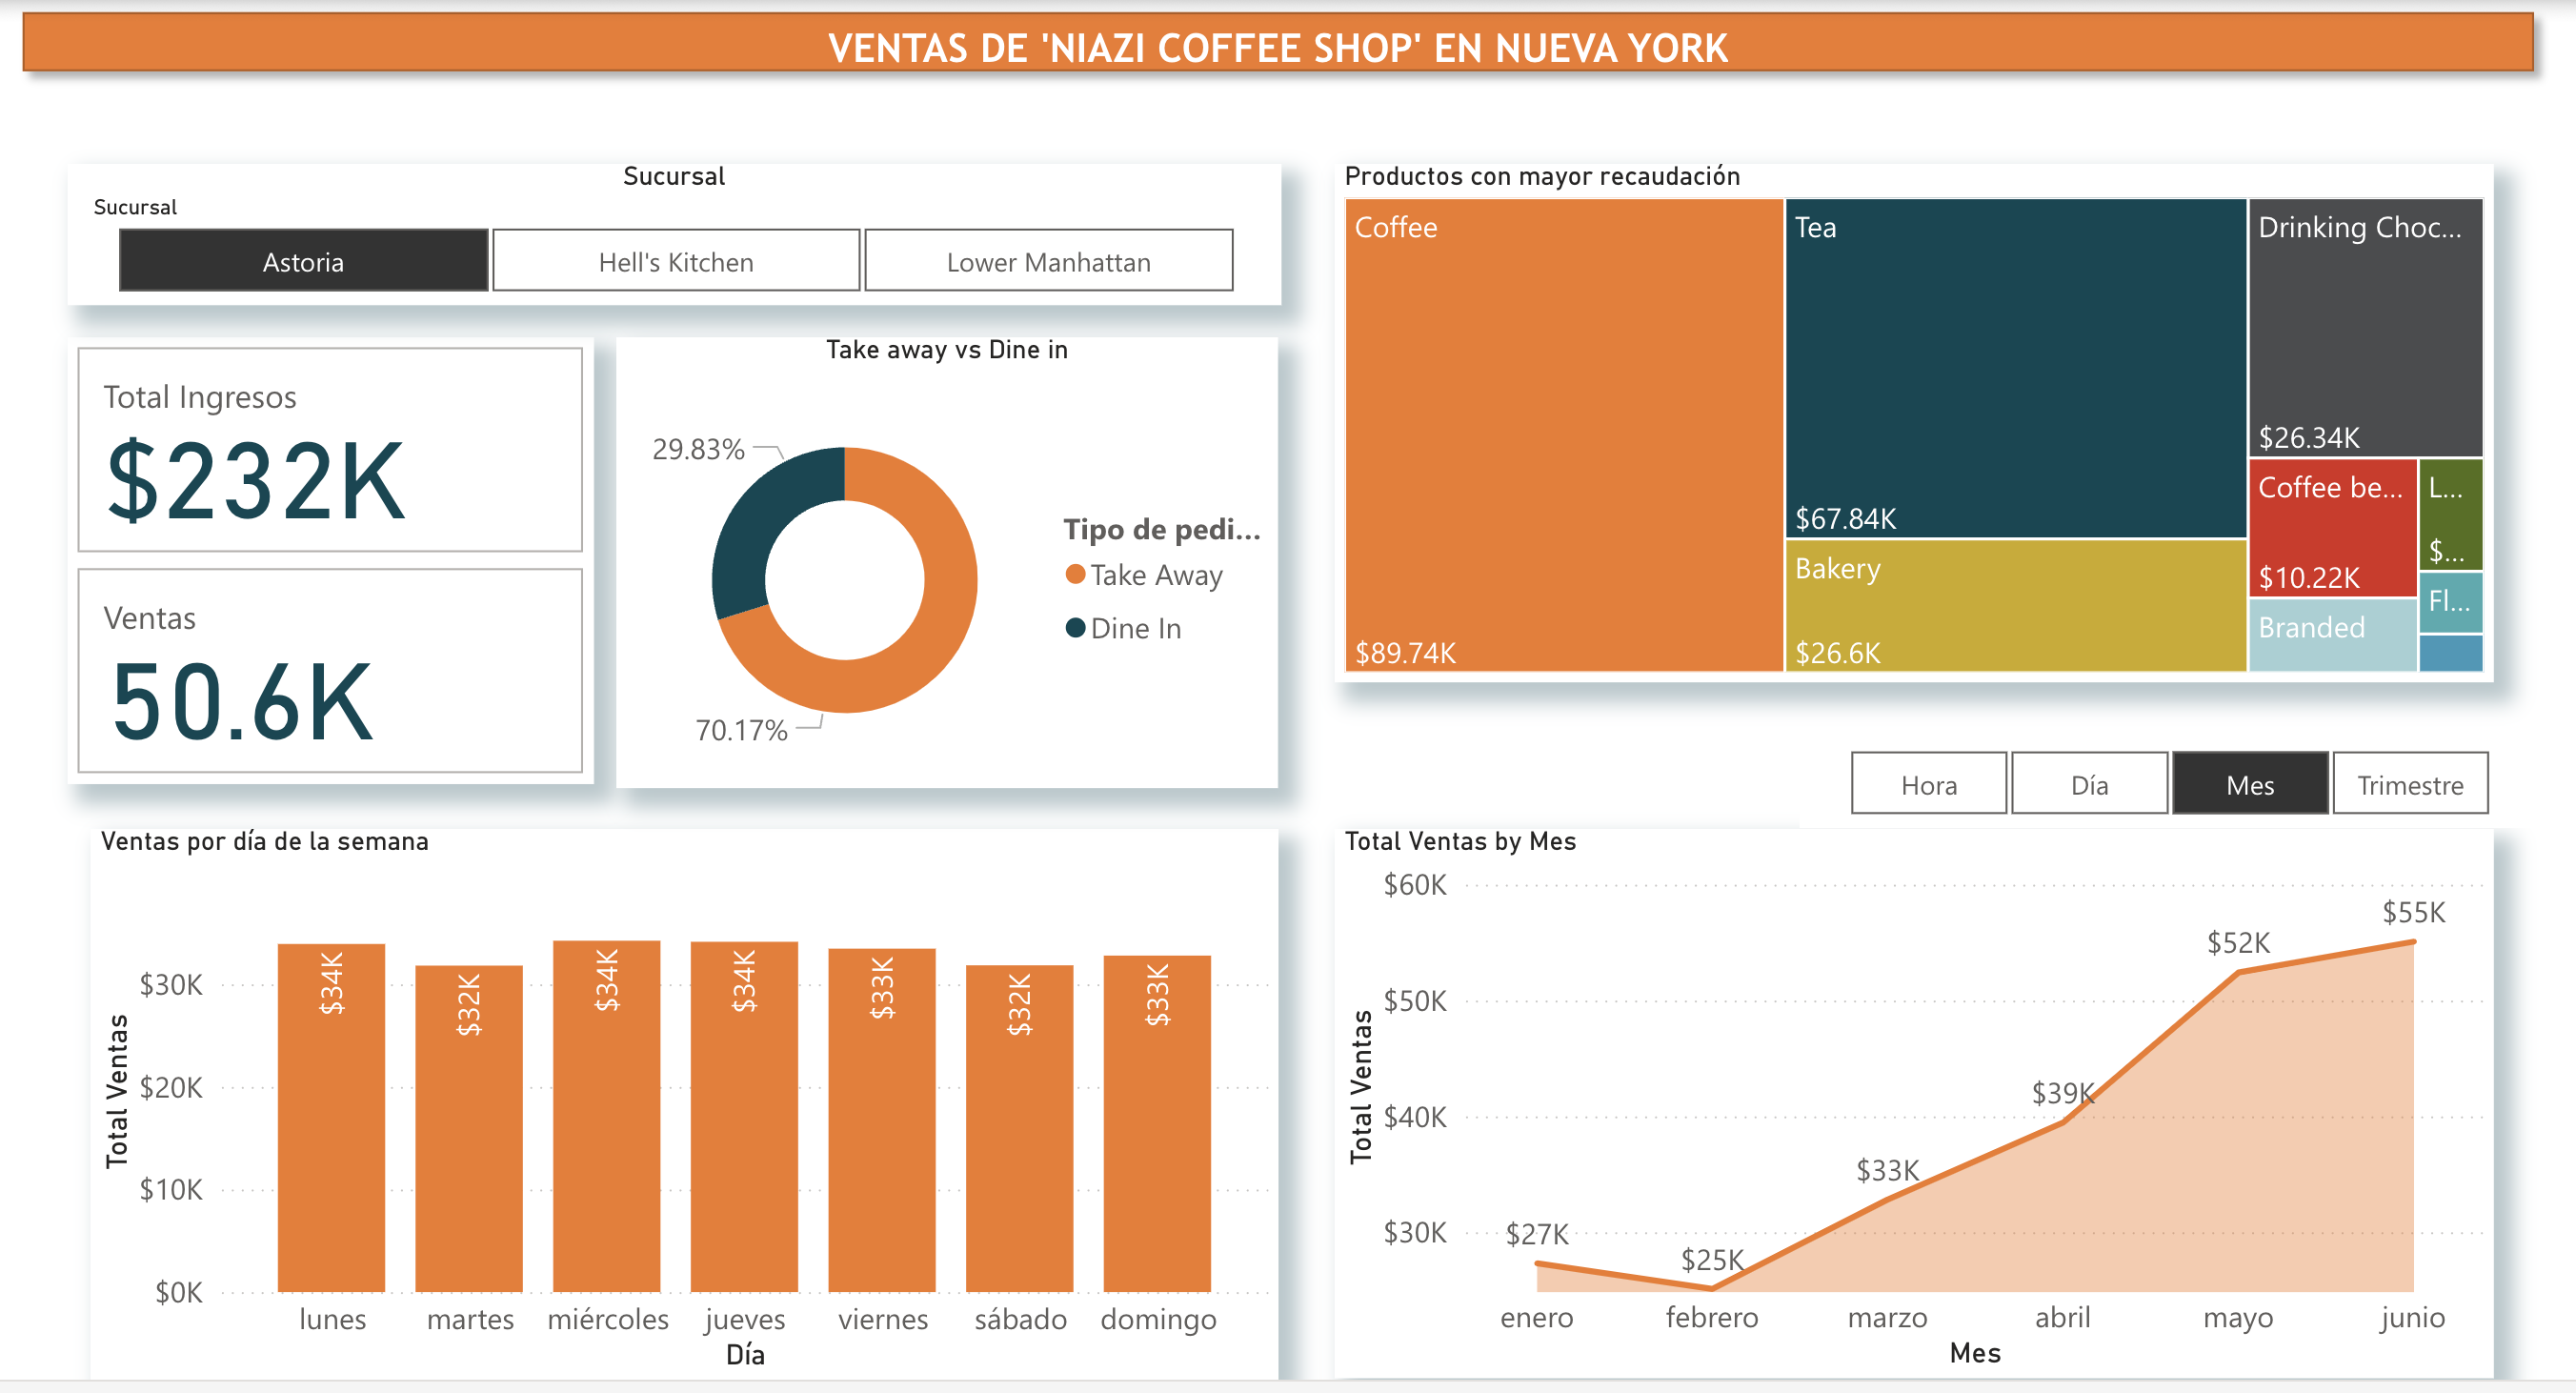

The page's visual inventory and layout, read from the dashboard file:
{"tool":"powerbi","page":{"name":"Página 1","canvas":[1280,720],"ordinal":0},"visuals":[{"type":"cardVisual","fields":{"Data":["Fact_Transactions.Total_sales","Count(Fact_Transactions.transaction_id)"]},"box":[31.1,196.5,264.6,224.7],"z":0},{"type":"lineChart","fields":{"Category":["Fact_Transactions.transaction_date.Variación.Jerarquía de fechas.Mes"],"Y":["Fact_Transactions.Total_sales"]},"box":[668.2,443.5,582.6,276.2],"z":1000},{"type":"treemap","title":"Productos con mayor recaudación","fields":{"Values":["Fact_Transactions.Total_sales"],"Group":["Dim_Productos.product_category"]},"box":[668.2,108.9,582.6,260.7],"z":2000},{"type":"slicer","fields":{"Values":["P Fechas.P Fechas"]},"box":[901.6,397.8,370.6,45.7],"z":3000},{"type":"slicer","title":"Sucursal","fields":{"Values":["Dim_Stores.store_location"]},"box":[31.1,108.9,609.8,71],"z":4000},{"type":"columnChart","title":"Ventas por día de la semana","fields":{"Category":["Fact_Transactions.nombre_dia_semana"],"Y":["Fact_Transactions.Total_sales"]},"box":[42.8,443.5,597.2,277.2],"z":5000},{"type":"donutChart","title":"Take away vs Dine in","fields":{"Category":["Fact_Transactions.type_order"],"Y":["Sum(Fact_Transactions.transaction_id)"]},"box":[307.4,196.5,332.6,226.6],"z":6000},{"type":"shape","box":[0,24.3,1280,47.7],"z":6001}]}

Visuals, with their boxes on the page's 1280x720 design canvas (x1, y1, x2, y2). These are canvas units, not pixel positions in the 2576x1393 screenshot, which may show the page scaled, cropped or inside an application window:
cardVisual - Fact_Transactions.Total_sales x Count(Fact_Transactions.transaction_id): bbox=[31, 196, 296, 421]
lineChart - Fact_Transactions.transaction_date.Variación.Jerarquía de fechas.Mes x Fact_Transactions.Total_sales: bbox=[668, 444, 1251, 720]
"Productos con mayor recaudación" treemap: bbox=[668, 109, 1251, 370]
slicer - P Fechas.P Fechas: bbox=[902, 398, 1272, 444]
"Sucursal" slicer: bbox=[31, 109, 641, 180]
"Ventas por día de la semana" columnChart: bbox=[43, 444, 640, 721]
"Take away vs Dine in" donutChart: bbox=[307, 196, 640, 423]
shape: bbox=[0, 24, 1280, 72]
